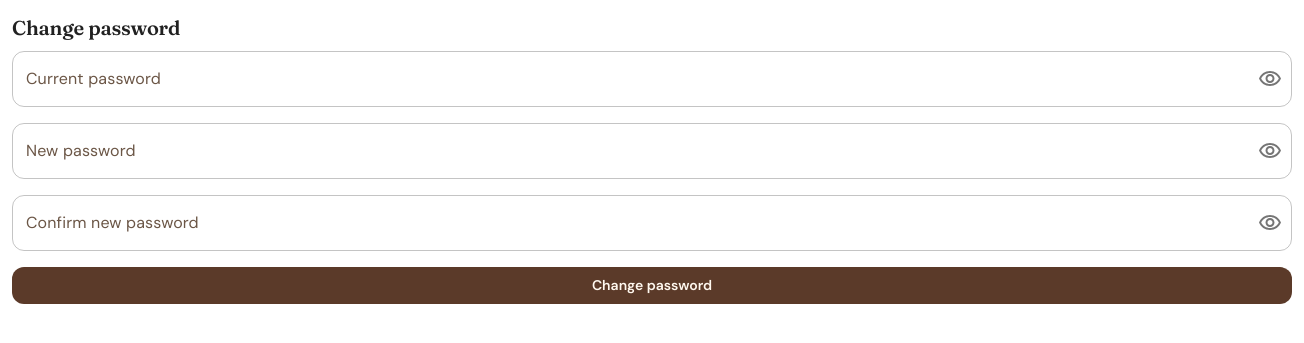
Scenario: ChangePasswordForm › flags a wrong current password from a 400 response
Step 1. Type "wrong" into the password field labelled "Current password" → (627, 79), box [12,51,1242,107]
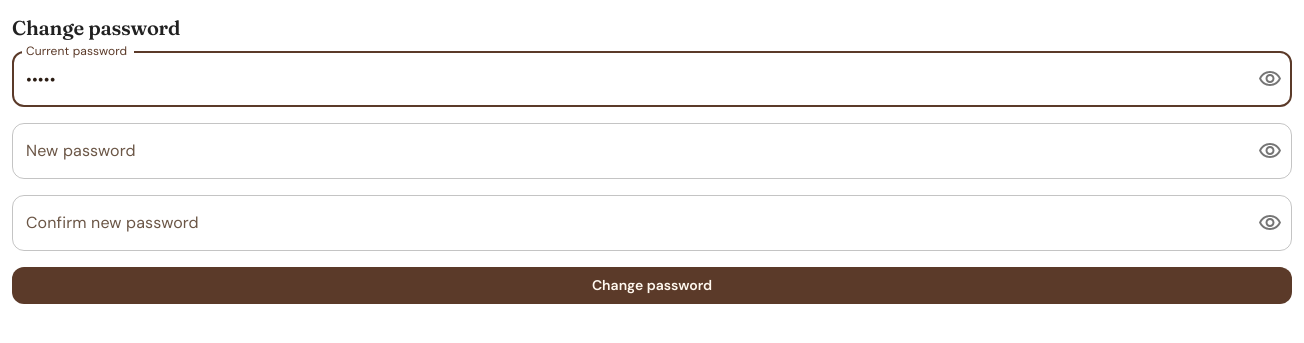
Step 2. Type "brew-new-pass-0001" into the password field labelled "New password" → (627, 151), box [12,123,1242,179]
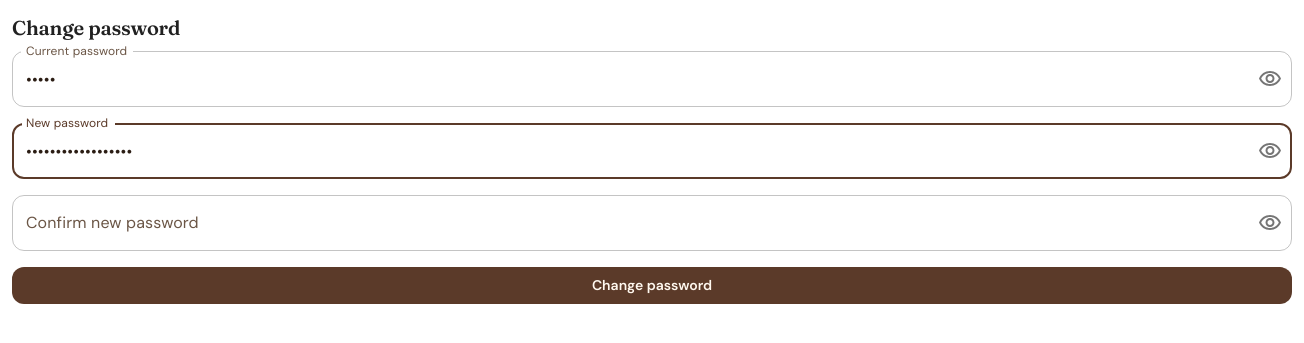
Step 3. Type "brew-new-pass-0001" into the password field labelled "Confirm new password" → (627, 223), box [12,195,1242,251]
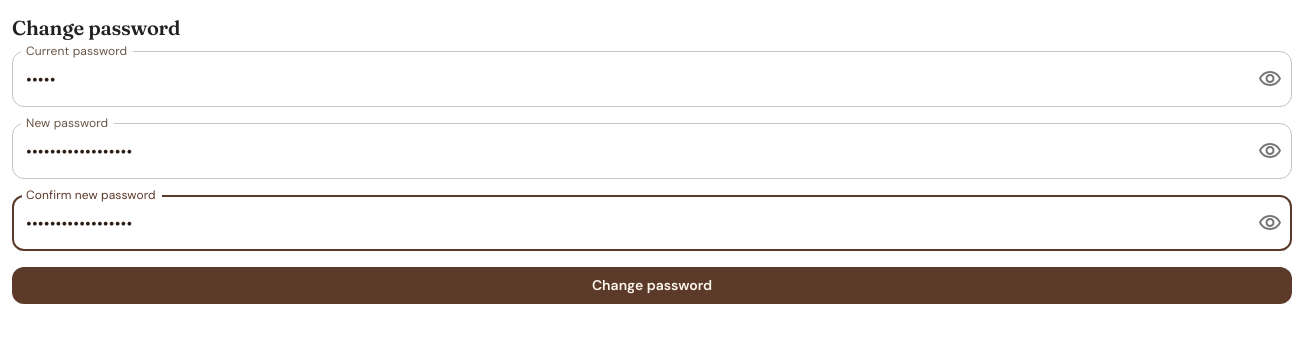
Step 4. Click the button "Change password" → (652, 285), box [12,267,1292,304]
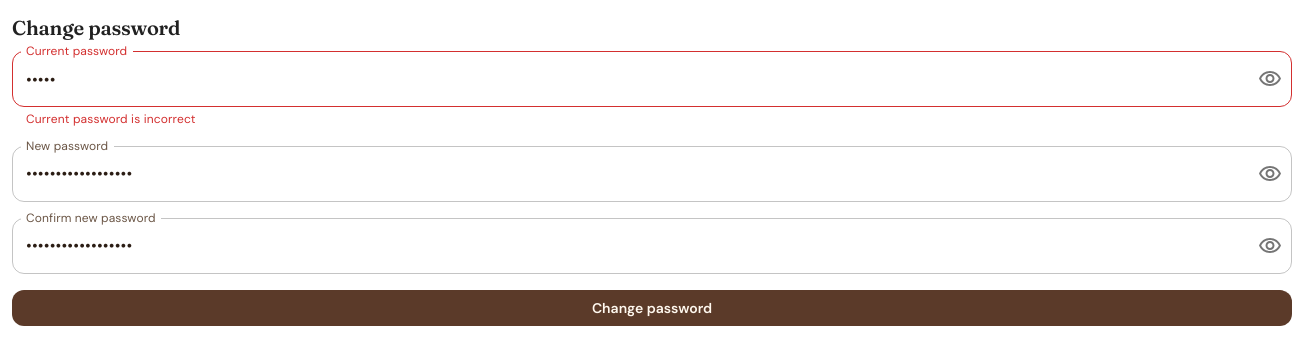
Expected: the text "Current password is incorrect" is shown, [26,111,196,127]
